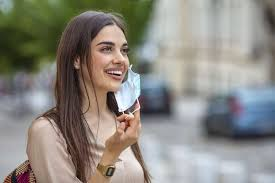mask_weared_incorrect: (97, 39, 137, 97)
